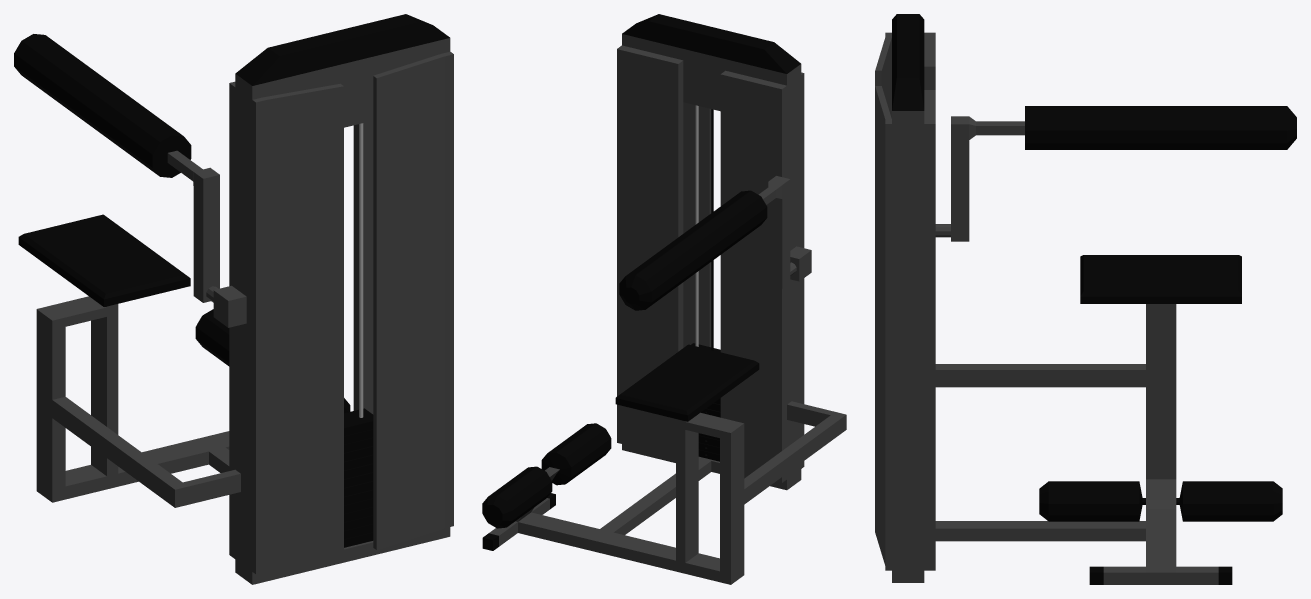
The model's file is AbBackExtensionMachine.fbx.
3 views of the same model, side by side, from view 1: azimuth 30°, elevation 25°; view 2: azimuth 150°, elevation 25°; view 3: azimuth 270°, elevation 25° (orthographic). The views are drawn at different scales.
Visible parts, largest first — view 1: AbBackExtensionMachine; view 2: AbBackExtensionMachine; view 3: AbBackExtensionMachine.
Boxes of the visible parts, box(x1,y1,x2,y2) form: AbBackExtensionMachine: box(14, 14, 453, 584); AbBackExtensionMachine: box(482, 14, 846, 584); AbBackExtensionMachine: box(875, 14, 1296, 584).
Size of the model in its own units: 84.23 by 156 by 121.
